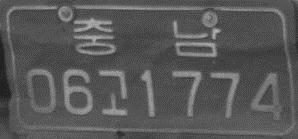0: (25, 67, 57, 115)
1: (134, 68, 165, 117)
4: (250, 72, 283, 118)
6: (62, 68, 93, 115)
7: (171, 69, 202, 118), (209, 70, 239, 120)
고: (97, 68, 129, 116)
충남_D: (73, 16, 220, 58)
